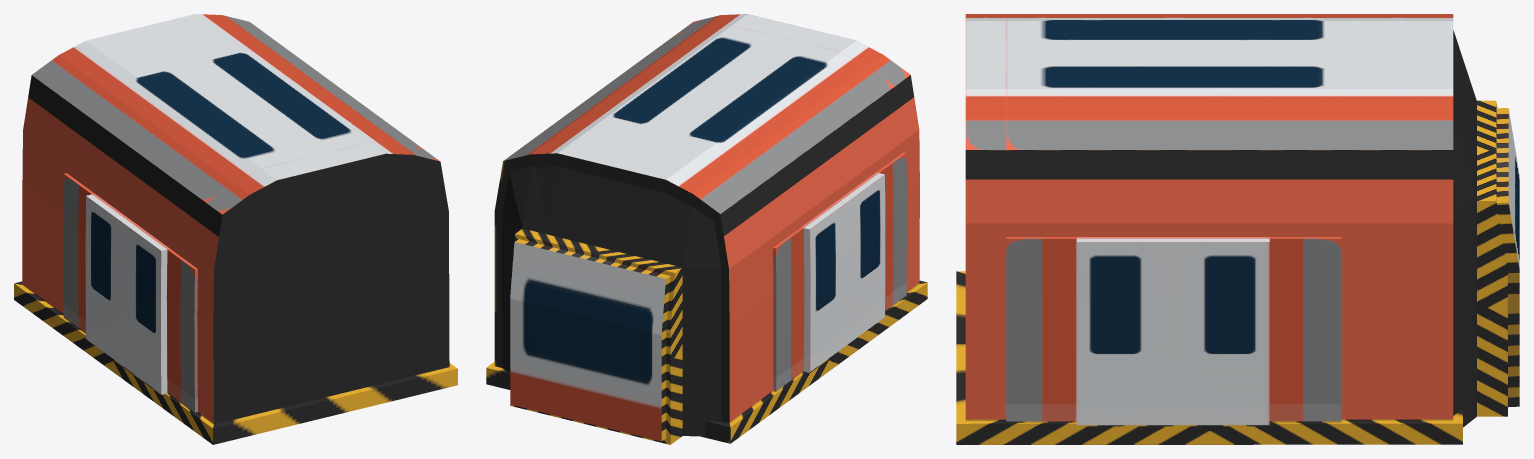
File: train-engine_1.fbx
The picture shows the model from 3 angles, left to right: view 1: azimuth 30°, elevation 25°; view 2: azimuth 150°, elevation 25°; view 3: azimuth 270°, elevation 25°; orthographic projection. The views are drawn at different scales.
Parts seen in each view (by area): view 1: Cube.051; view 2: Cube.051; view 3: Cube.051.
Part boxes in pixels (x1,y1,x2,y2): Cube.051: (14, 14, 457, 444); Cube.051: (486, 14, 927, 444); Cube.051: (956, 14, 1519, 444).
Bounding box in the file's own units: 233 × 215 × 351.
